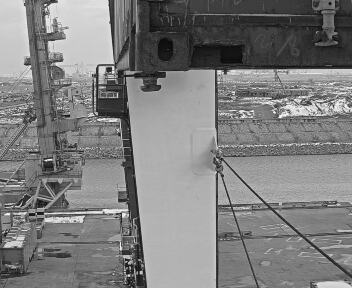twist_lock_1: (131, 67, 169, 99)
